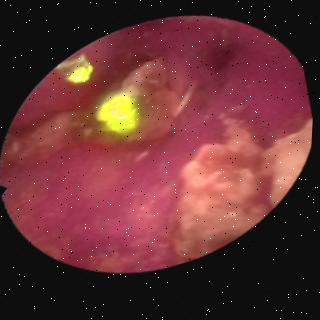laser: (99, 93, 136, 132), (67, 66, 90, 83)
stone: (169, 121, 313, 259), (95, 56, 180, 144), (5, 112, 93, 164)
tissue: (6, 23, 312, 271)
